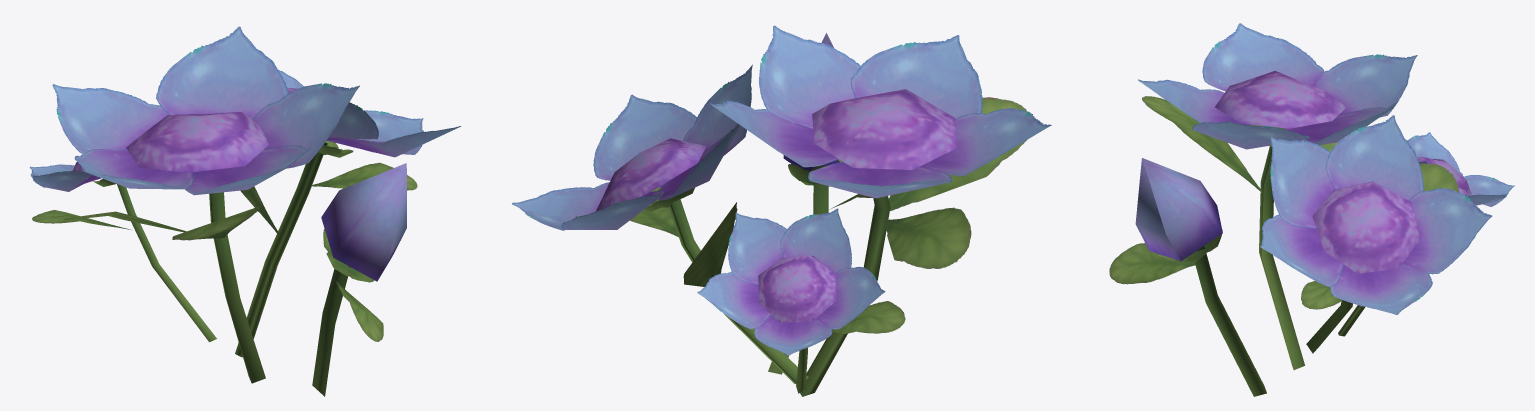
The model's file is Map_07_grass19.FBX.
3 views of the same model, side by side, from view 1: azimuth 30°, elevation 25°; view 2: azimuth 150°, elevation 25°; view 3: azimuth 270°, elevation 25° (orthographic). The views are drawn at different scales.
Visible parts, largest first — view 1: Map_07_grass19; view 2: Map_07_grass19; view 3: Map_07_grass19.
Part boxes in pixels (<box>): Map_07_grass19: <box>29,26,460,396</box>; Map_07_grass19: <box>512,25,1051,396</box>; Map_07_grass19: <box>1109,23,1514,396</box>.
Bounding box in the file's own units: 149 × 104 × 138.
1 material, 1 textured.
